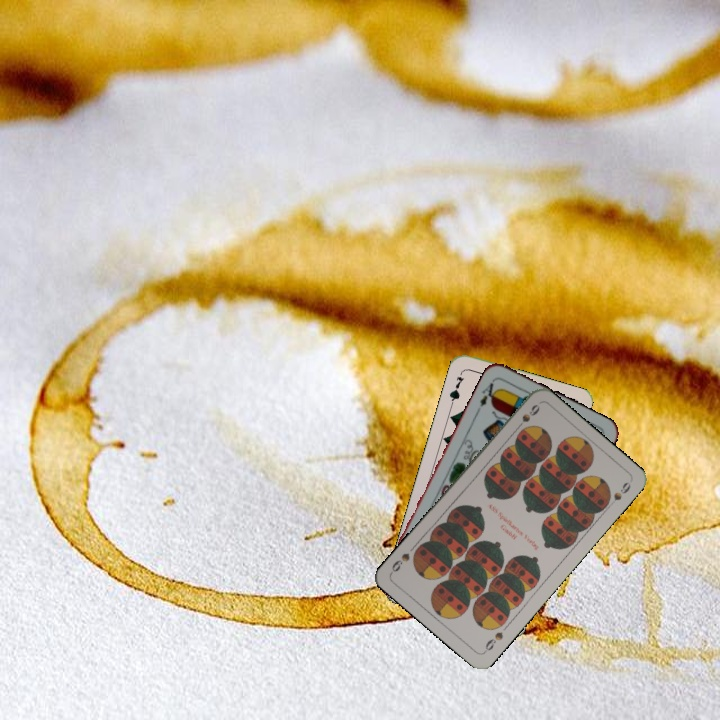EA: (476, 379, 501, 409)
G7: (445, 368, 467, 407)
S9: (511, 400, 542, 434), (480, 628, 506, 655)
